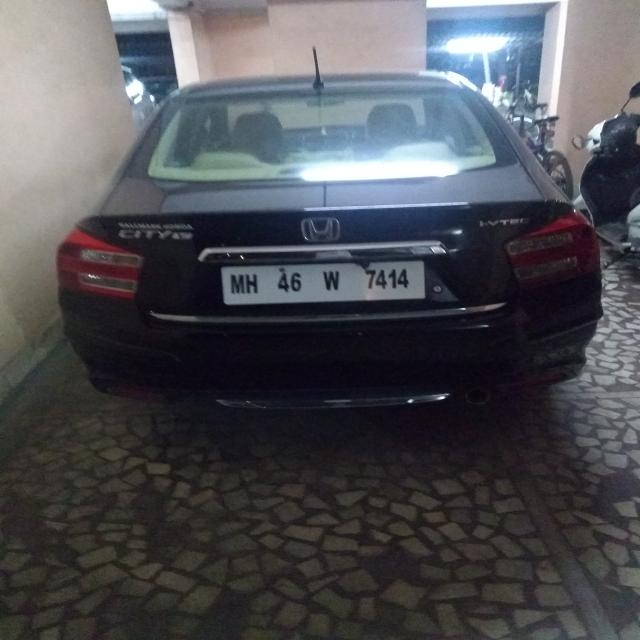Number-Plate: (220, 263, 421, 301)
